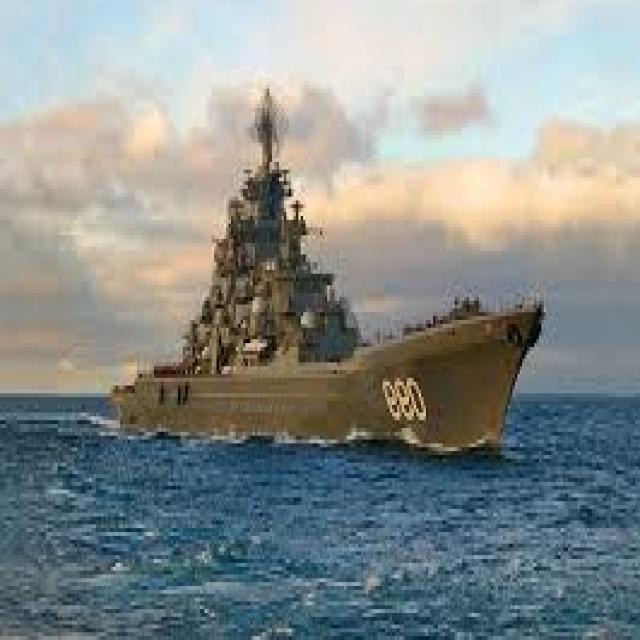navalvessels: (96, 77, 555, 476)
